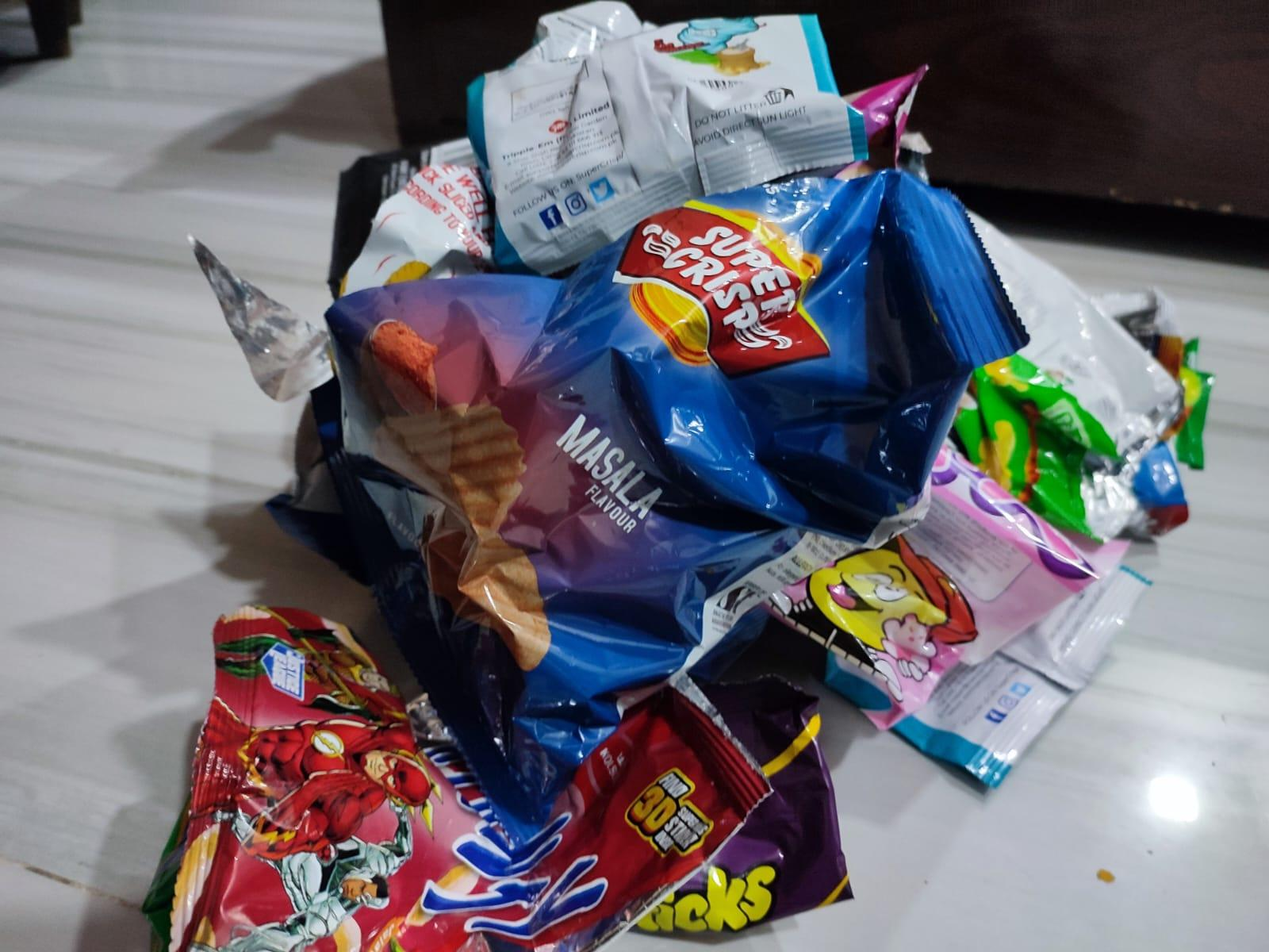garbage: (136, 0, 1205, 952)
